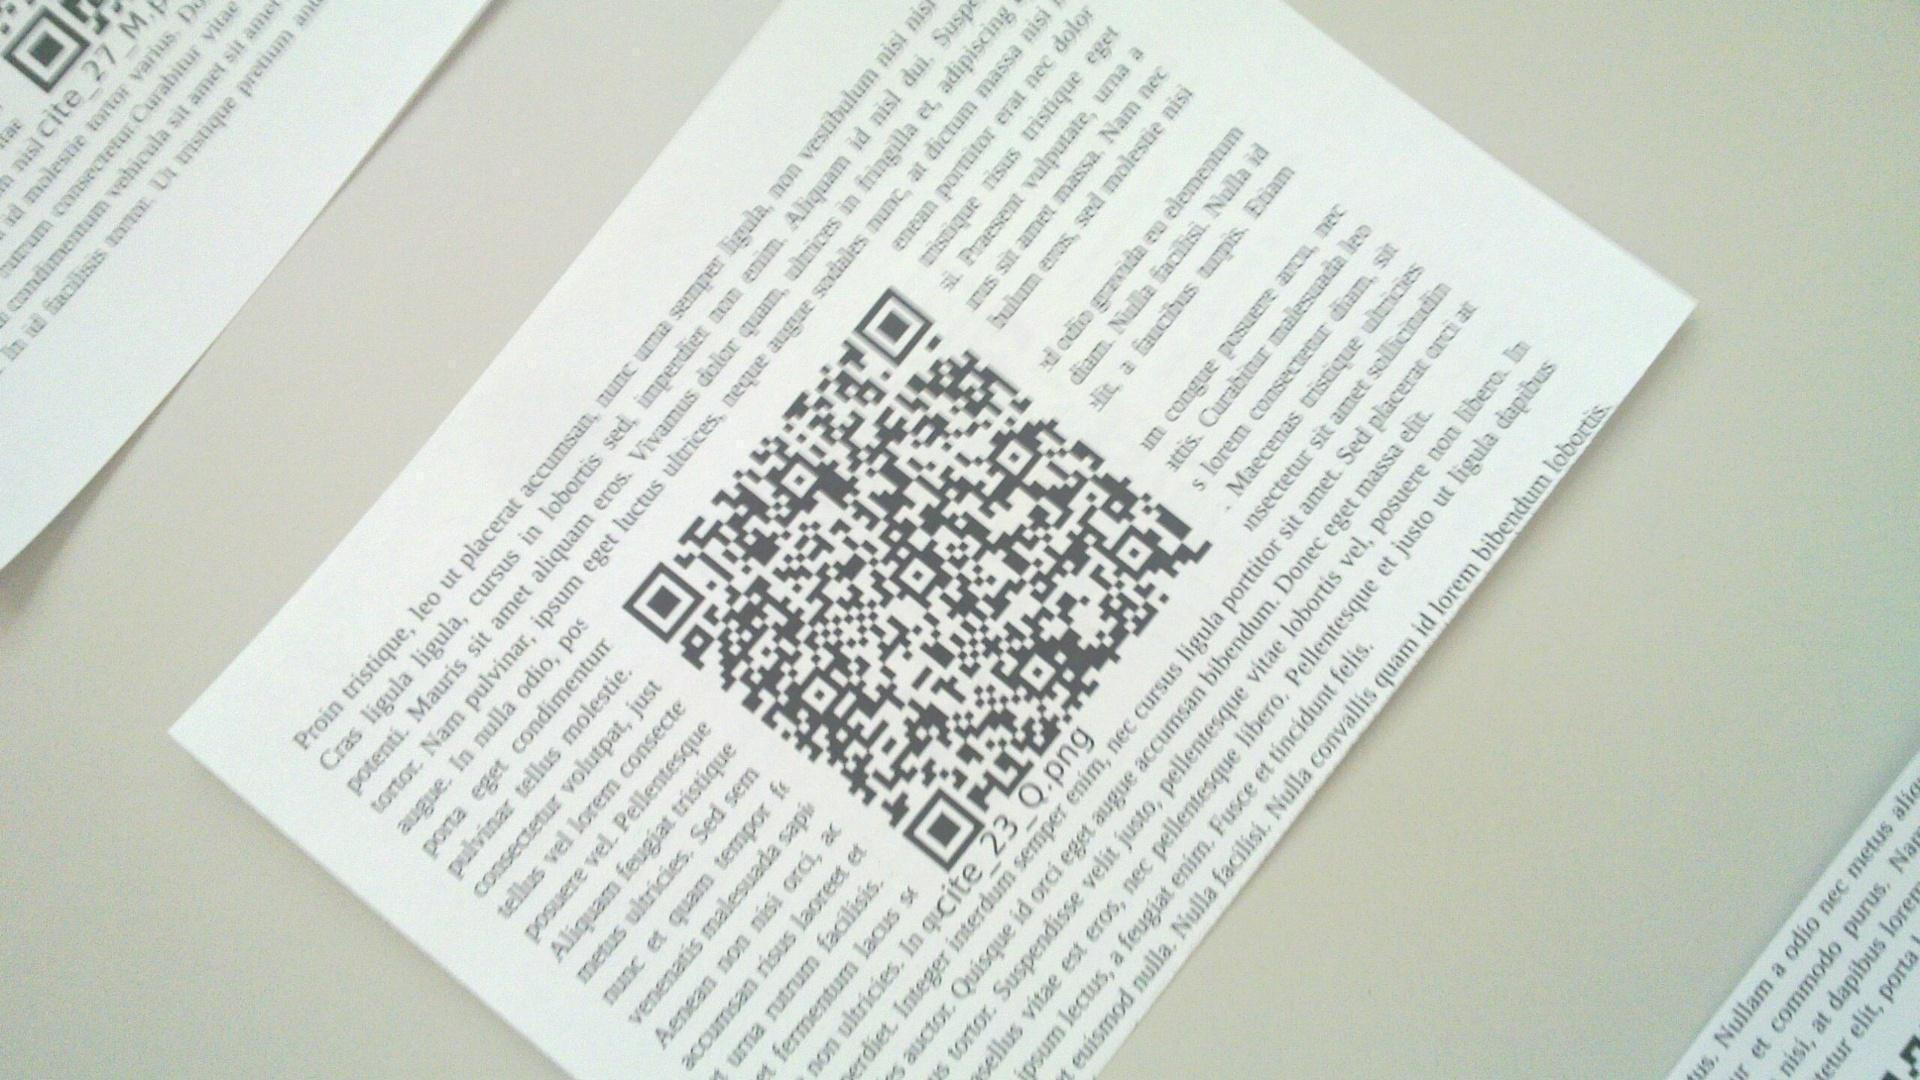qr_code: (620, 286, 1213, 874)
